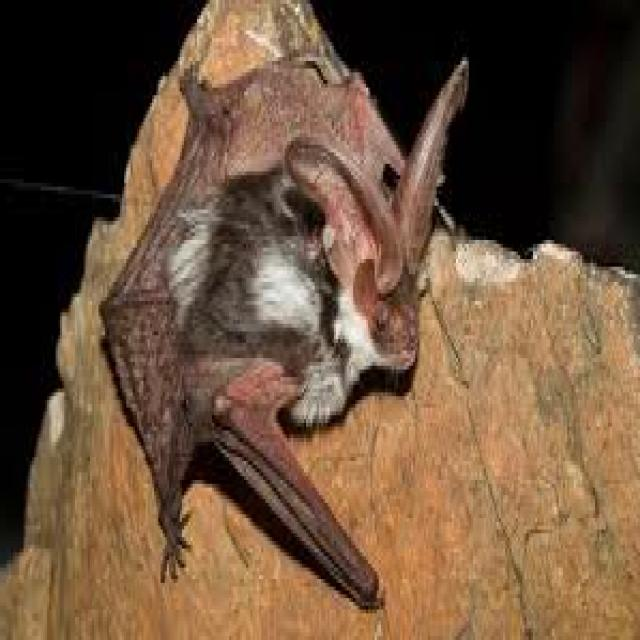bat: (103, 0, 469, 602)
